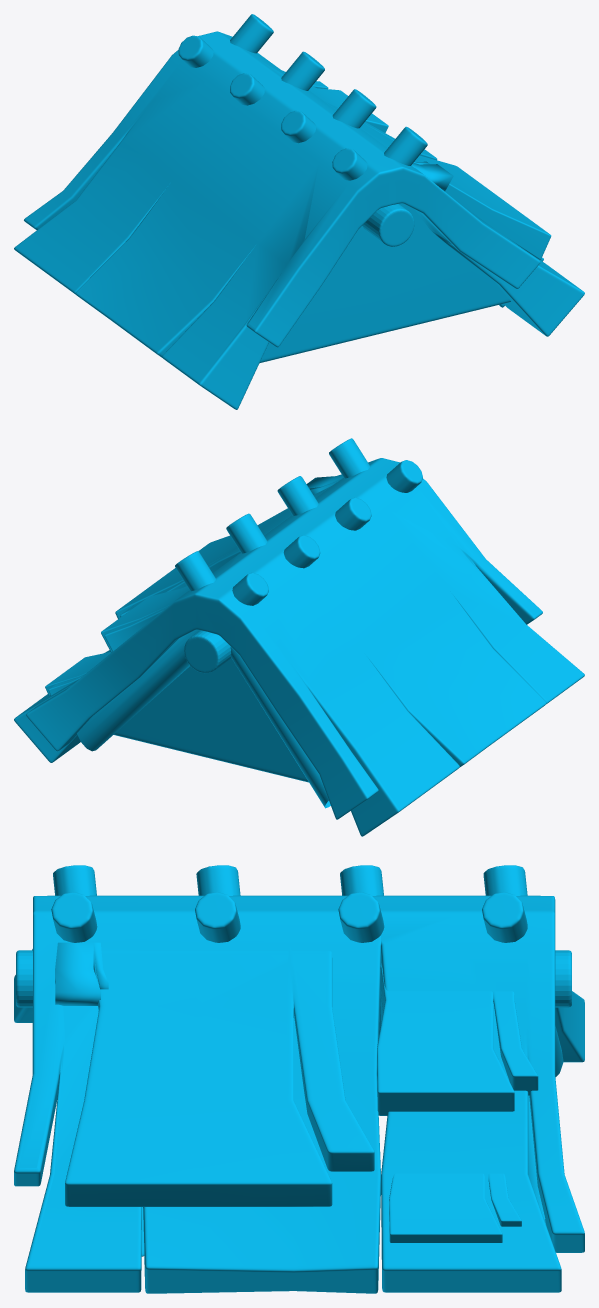
File: SM_Clay_Roof_04.fbx
3 renders of one model, top to bottom at view 1: azimuth 30°, elevation 25°; view 2: azimuth 150°, elevation 25°; view 3: azimuth 270°, elevation 25°, orthographic. The views are drawn at different scales.
Visible parts, largest first — view 1: SM_Clay_Roof_04; view 2: SM_Clay_Roof_04; view 3: SM_Clay_Roof_04.
Boxes of the visible parts, x1=… form: SM_Clay_Roof_04: x1=14, y1=14, x2=584, y2=409; SM_Clay_Roof_04: x1=14, y1=438, x2=584, y2=836; SM_Clay_Roof_04: x1=14, y1=865, x2=584, y2=1293.
Bounding box in the file's own units: 2.87 × 1.61 × 2.62.
